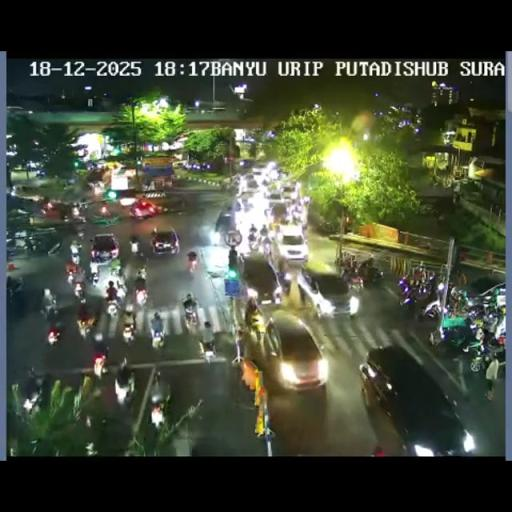Car: (360, 346, 472, 453), (255, 309, 329, 391), (310, 269, 360, 318), (273, 226, 308, 264), (200, 244, 234, 277), (150, 226, 180, 255), (90, 234, 120, 263), (214, 206, 234, 242), (11, 184, 48, 202), (129, 198, 159, 220), (267, 202, 291, 224), (252, 163, 274, 182), (242, 175, 260, 193), (280, 182, 298, 200), (264, 190, 284, 206)
Motorcycle: (28, 345, 161, 414), (64, 258, 159, 351), (434, 314, 481, 358), (396, 272, 438, 310), (149, 389, 168, 426), (482, 332, 505, 362), (198, 320, 216, 358), (422, 299, 448, 325), (22, 384, 43, 415), (468, 343, 488, 373), (114, 378, 134, 406), (182, 303, 200, 332), (6, 275, 24, 303), (449, 284, 469, 309), (76, 312, 94, 338), (122, 314, 138, 342), (104, 292, 121, 317), (464, 304, 486, 322), (40, 298, 58, 319), (46, 322, 62, 345), (150, 324, 164, 350), (250, 316, 264, 342), (235, 197, 254, 215), (368, 266, 385, 286), (93, 354, 107, 378), (484, 312, 499, 334), (72, 279, 86, 301), (133, 286, 147, 307), (114, 276, 128, 296), (318, 220, 338, 234), (348, 294, 359, 317), (341, 253, 355, 270), (88, 266, 100, 285), (272, 282, 282, 304), (109, 262, 122, 278), (186, 255, 198, 272), (84, 441, 97, 456), (134, 266, 146, 282), (24, 237, 36, 253), (262, 236, 272, 254), (236, 246, 246, 264), (66, 268, 76, 286), (292, 207, 302, 225), (248, 234, 259, 250), (129, 238, 140, 254), (72, 212, 86, 224), (70, 249, 80, 265), (92, 181, 103, 194), (75, 226, 85, 240), (100, 204, 110, 217), (302, 194, 310, 208), (260, 224, 268, 237)
